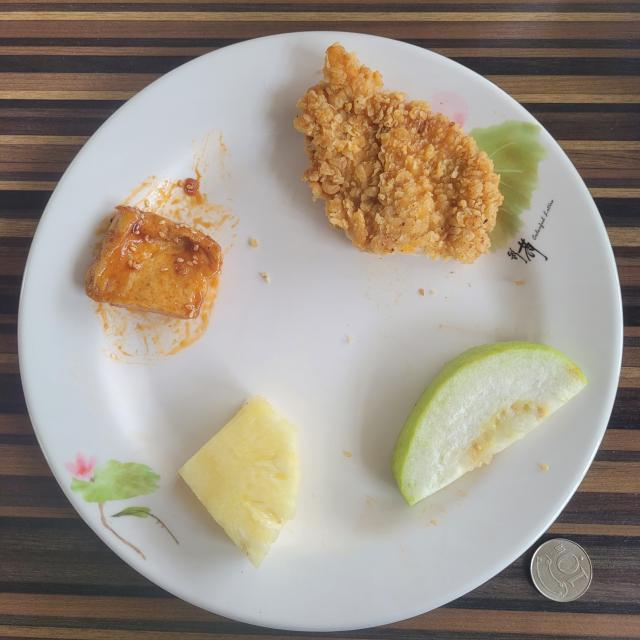coin: (531, 539, 592, 602)
creamy tofu: (85, 205, 222, 319)
fried chicken cutlet: (294, 42, 504, 264)
guava -sliced-: (391, 341, 588, 505)
pineapple: (179, 395, 301, 569)
